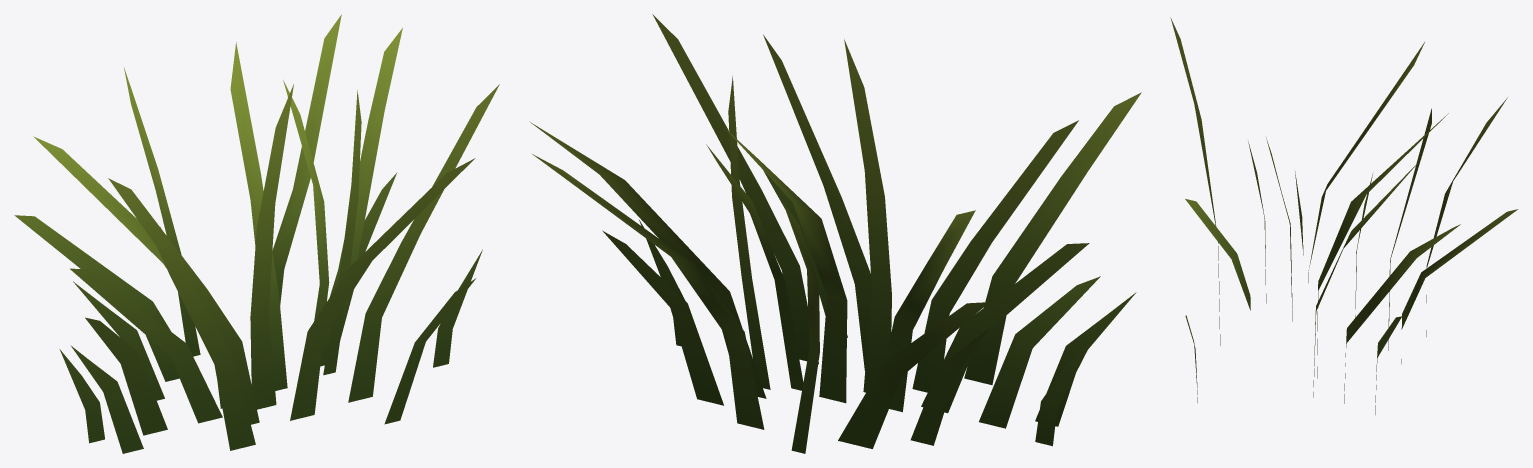
Rendered from Grass_Large.glb.
3 views of the same model, side by side, from view 1: azimuth 30°, elevation 25°; view 2: azimuth 150°, elevation 25°; view 3: azimuth 270°, elevation 25° (orthographic). The views are drawn at different scales.
Visible parts, largest first — view 1: Grass_Large; view 2: Grass_Large; view 3: Grass_Large.
Part boxes in pixels (x1,y1,x2,y2): Grass_Large: (14,14,499,453); Grass_Large: (529,14,1141,453); Grass_Large: (1170,17,1518,414).
Size of the model in its own units: 0.7085 by 0.4851 by 0.498.
Materials: 1 (1 with a texture image).
